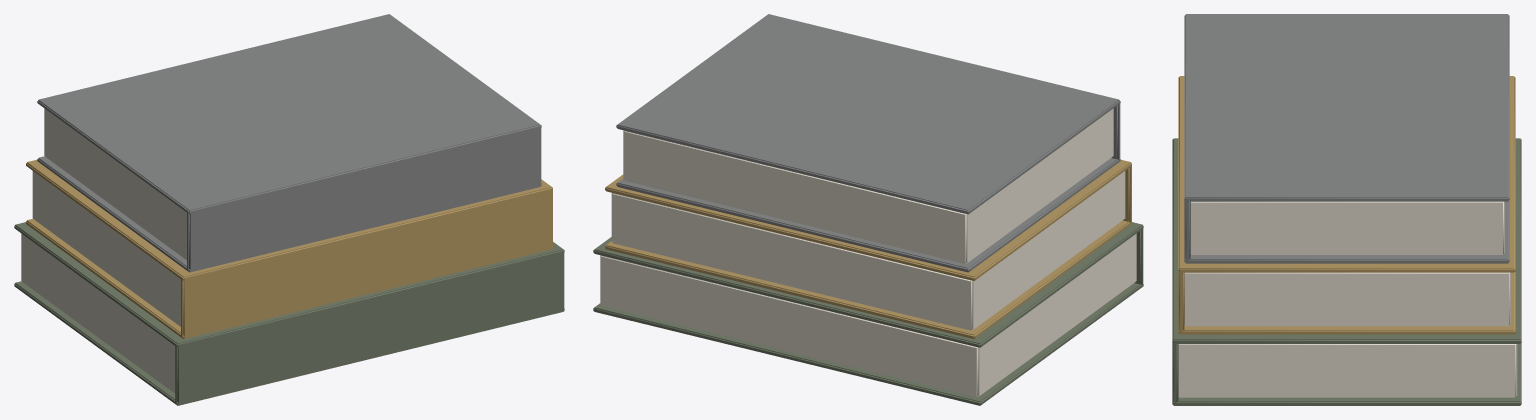
File: industrial.book_stack.gltf
The picture shows the model from 3 angles, left to right: view 1: azimuth 30°, elevation 25°; view 2: azimuth 150°, elevation 25°; view 3: azimuth 270°, elevation 25°; orthographic projection. The views are drawn at different scales.
Visible parts, largest first — view 1: industrial.book_stack.pages; view 2: industrial.book_stack.pages; view 3: industrial.book_stack.pages.
Boxes of the visible parts, x1,y1,x2,y2 form: industrial.book_stack.pages: [14, 14, 564, 405]; industrial.book_stack.pages: [593, 14, 1143, 405]; industrial.book_stack.pages: [1172, 14, 1521, 405].
Size of the model in its own units: 0.26 by 0.12 by 0.19.
